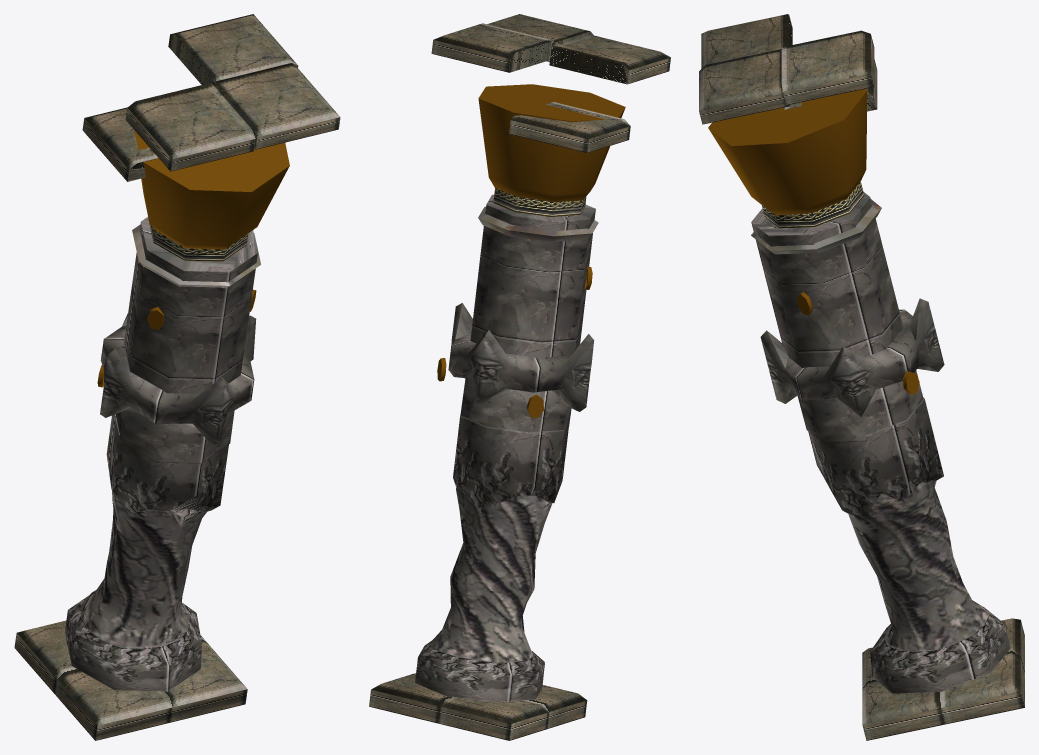
File: INST_SM_COLUMNA_DESTROYED_COLUMNA__AI.fbx
3 renders of one model, left to right at view 1: azimuth 30°, elevation 25°; view 2: azimuth 150°, elevation 25°; view 3: azimuth 270°, elevation 25°, orthographic. The views are drawn at different scales.
Parts seen in each view (by area): view 1: INST_SM_COLUMNA_DESTROYED_COLUMNA__AI; view 2: INST_SM_COLUMNA_DESTROYED_COLUMNA__AI; view 3: INST_SM_COLUMNA_DESTROYED_COLUMNA__AI.
Boxes of the visible parts, box(x1,y1,x2,y2) form: INST_SM_COLUMNA_DESTROYED_COLUMNA__AI: box(14, 14, 340, 740); INST_SM_COLUMNA_DESTROYED_COLUMNA__AI: box(369, 14, 670, 740); INST_SM_COLUMNA_DESTROYED_COLUMNA__AI: box(699, 14, 1024, 740).
Bounding box in the file's own units: 37552 × 147550 × 64546.
Materials: 8 (8 with a texture image).
